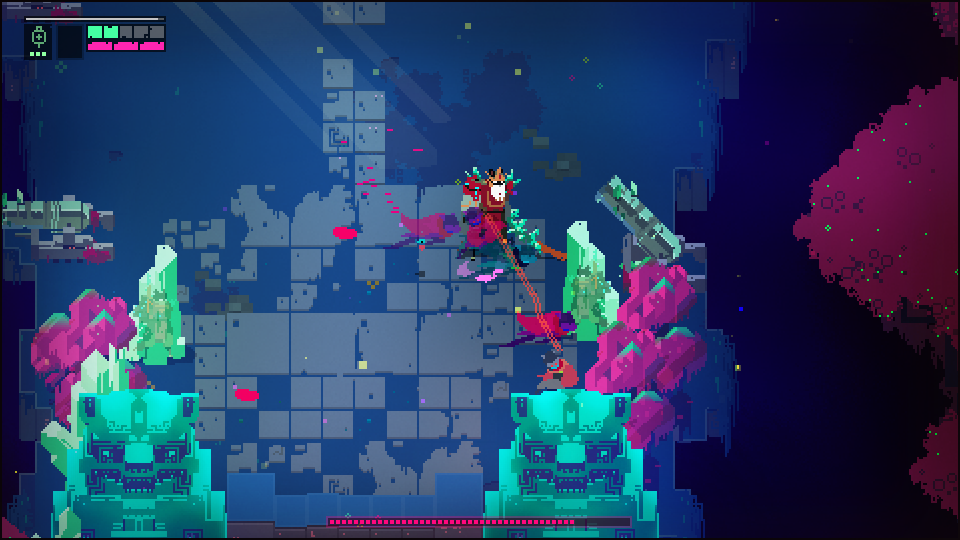hanged_man: (458, 163, 548, 265)
player: (536, 349, 584, 396)
